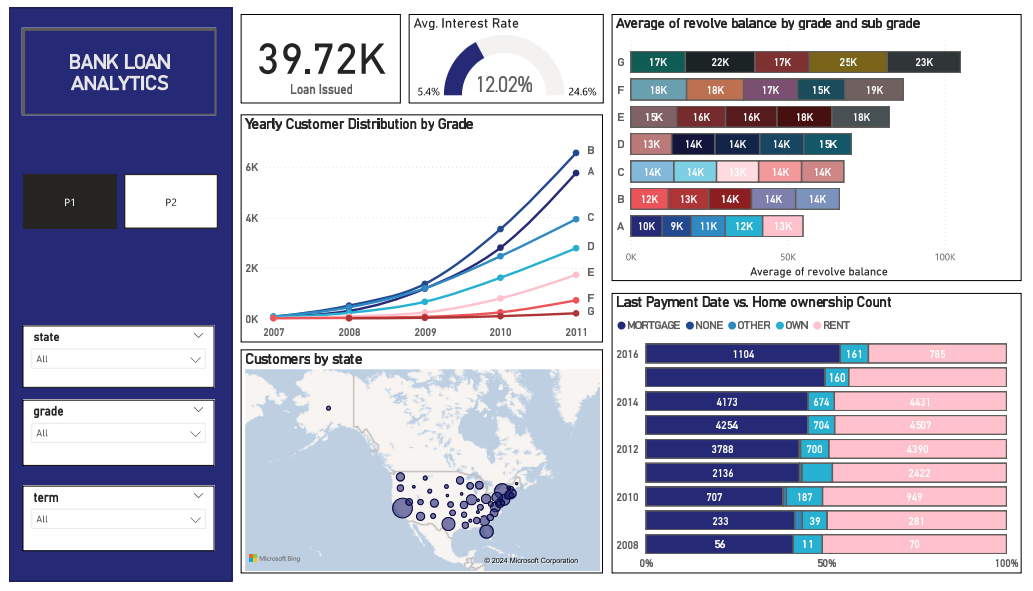

Layout of this report page (visuals, bound fields, positions):
{"tool":"powerbi","page":{"name":"Report 1","canvas":[1280,720],"ordinal":0},"visuals":[{"type":"shape","box":[0,0,280.4,720],"z":0},{"type":"gauge","title":"Avg. Interest  Rate","fields":{"Y":["Avg(master.interest rate)"],"MinValue":["Min(master.interest rate)1"],"MaxValue":["Max(master.interest rate)2"]},"box":[501.9,8.1,244.6,111.9],"z":1000},{"type":"hundredPercentStackedBarChart","title":"Last Payment Date vs. Home ownership Count","fields":{"Category":["master.last payment date.Variation.Date Hierarchy.Year"],"Series":["master.home ownership"],"Y":["CountNonNull(master.home ownership)"]},"box":[757.1,357.7,514.6,351.8],"z":2000},{"type":"map","title":"Customers by state","fields":{"Category":["master.state"],"Size":["Count(master.id)"]},"box":[291.2,429,455.2,280.5],"z":3000},{"type":"barChart","fields":{"Category":["master.grade"],"Y":["Avg(master.revolve balance)"],"Series":["master.sub grade"]},"box":[757.1,8.3,514.6,335.2],"z":4000},{"type":"lineChart","title":"Yearly Customer Distribution by Grade","fields":{"Y":["Count(master.member id)"],"Category":["master.issue date.Variation.Date Hierarchy.Year"],"Series":["master.grade"]},"box":[291.2,134.3,455.2,285.2],"z":5000},{"type":"card","fields":{"Values":["Count(master.member id)"]},"box":[291.2,8.3,200.9,111.7],"z":6000},{"type":"pageNavigator","box":[17.8,209.2,244.8,67.7],"z":7000},{"type":"actionButton","box":[17.8,25,244.8,109.3],"z":8000},{"type":"slicer","fields":{"Values":["master.grade"]},"box":[16.6,492,241.3,83.2],"z":9000},{"type":"slicer","fields":{"Values":["master.term"]},"box":[16.6,600.2,241.3,82],"z":10000},{"type":"slicer","fields":{"Values":["master.state"]},"box":[16.6,399.3,241.3,77.3],"z":11000}]}

Visuals, with their boxes in screenshot pixels (x1, y1, x2, y2), scaled from the page's 1280x720 canvas onto the 1033x591 screenshot:
shape: Rect(0, 0, 226, 590)
"Avg. Interest  Rate" gauge: Rect(405, 7, 602, 98)
"Last Payment Date vs. Home ownership Count" hundredPercentStackedBarChart: Rect(611, 294, 1026, 582)
"Customers by state" map: Rect(235, 352, 602, 582)
barChart - master.grade x Avg(master.revolve balance): Rect(611, 7, 1026, 282)
"Yearly Customer Distribution by Grade" lineChart: Rect(235, 110, 602, 344)
card - Count(master.member id): Rect(235, 7, 397, 98)
pageNavigator: Rect(14, 172, 212, 227)
actionButton: Rect(14, 21, 212, 110)
slicer - master.grade: Rect(13, 404, 208, 472)
slicer - master.term: Rect(13, 493, 208, 560)
slicer - master.state: Rect(13, 328, 208, 391)
